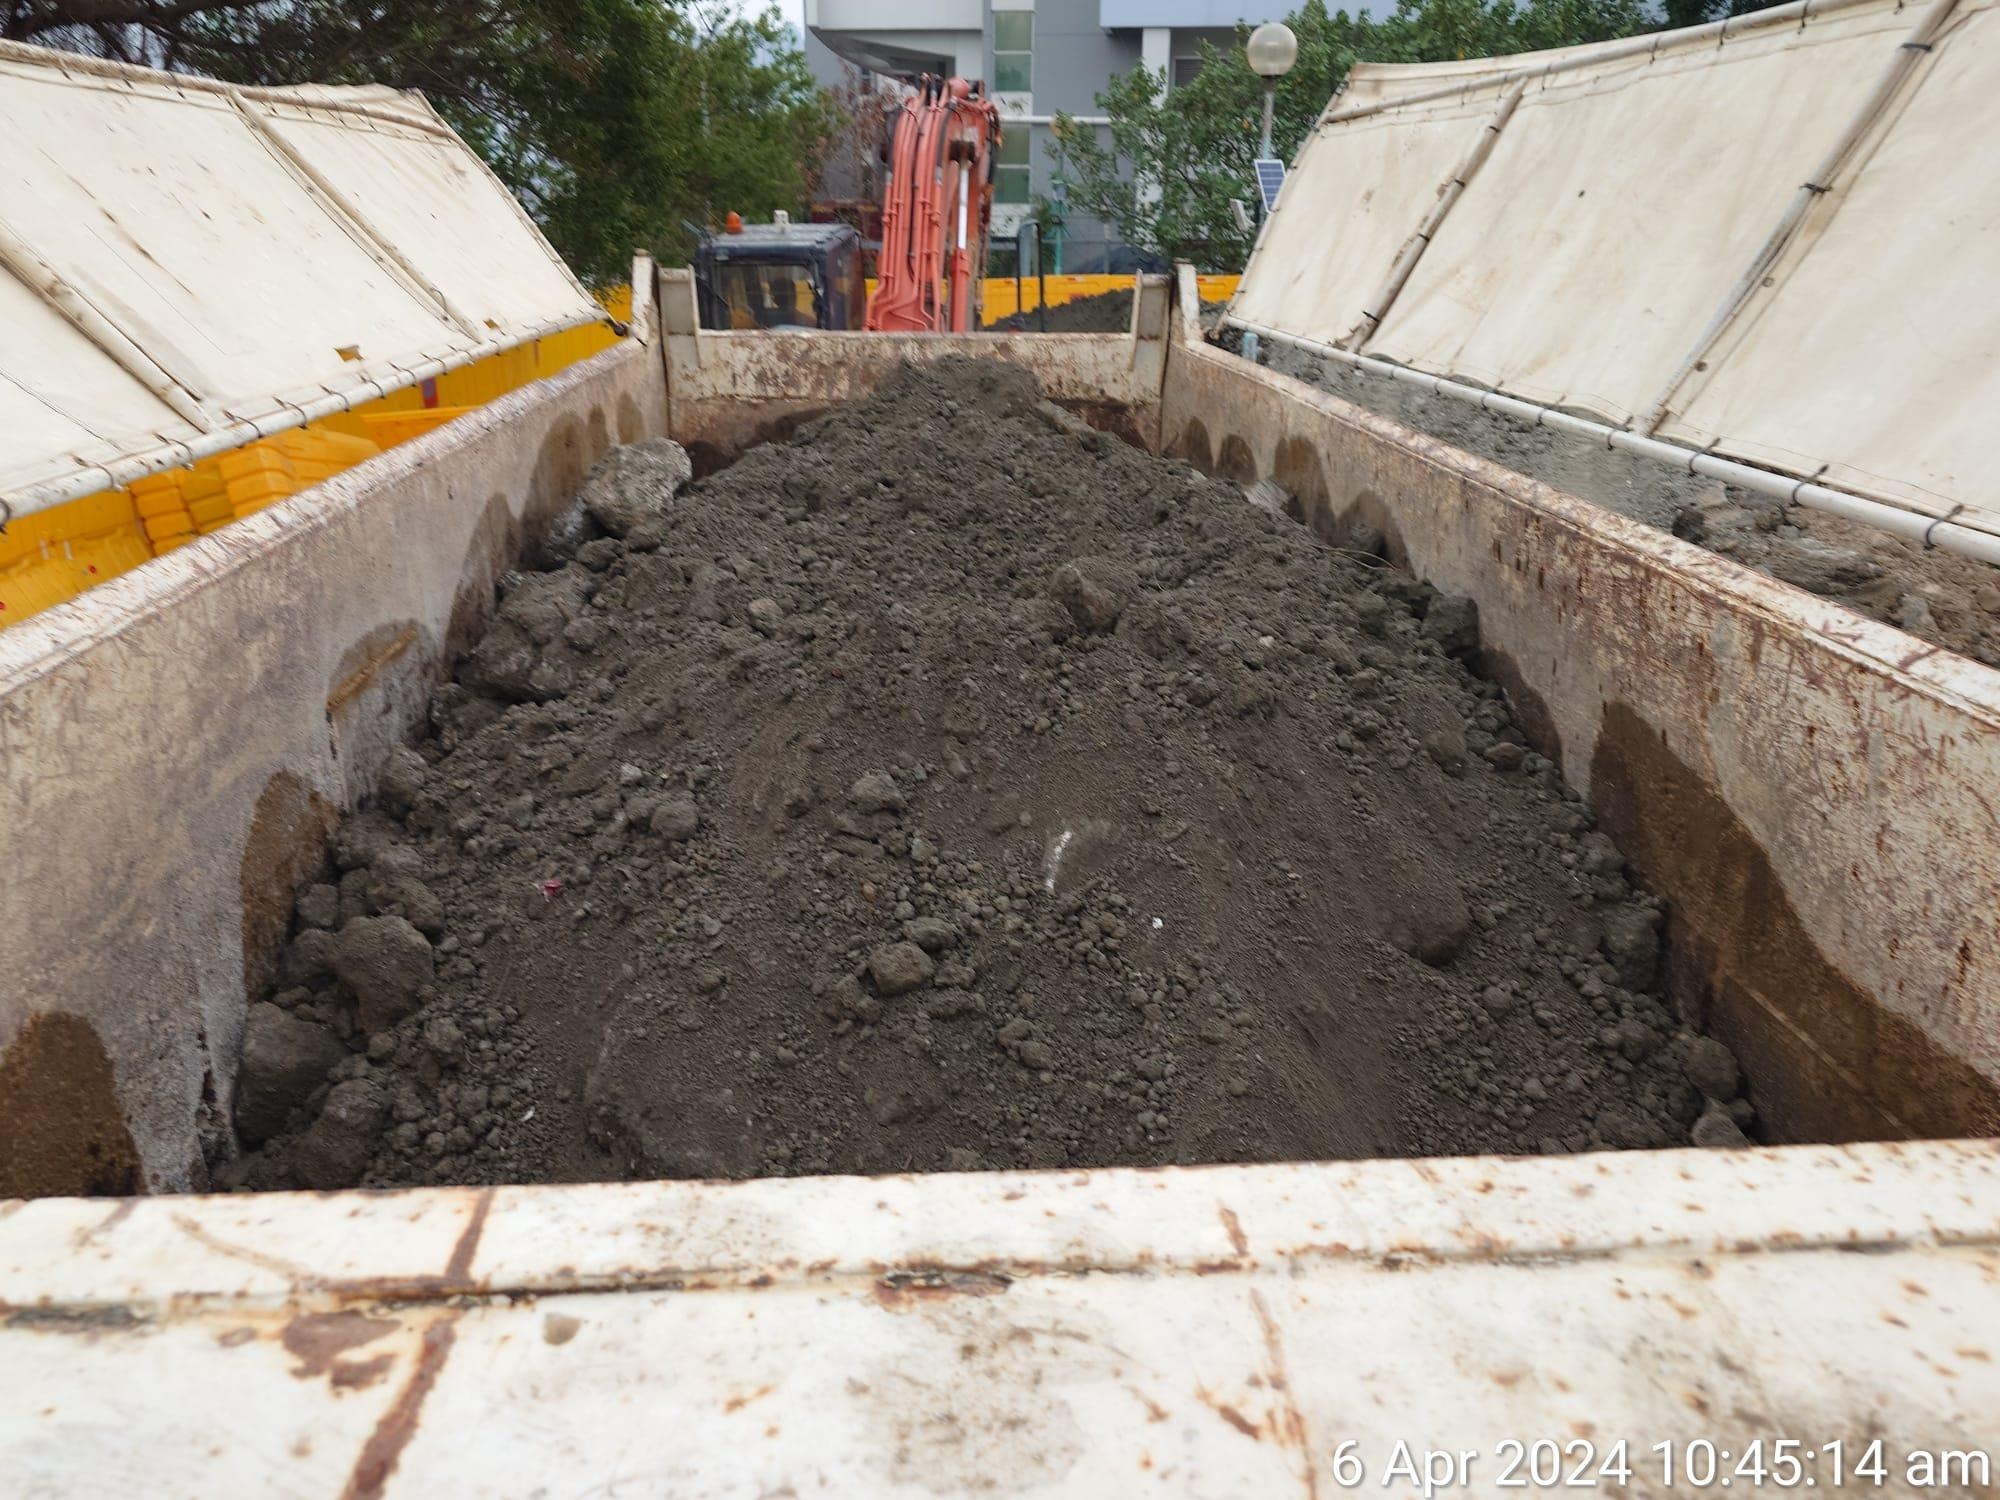wet: (218, 365, 1752, 1190)
